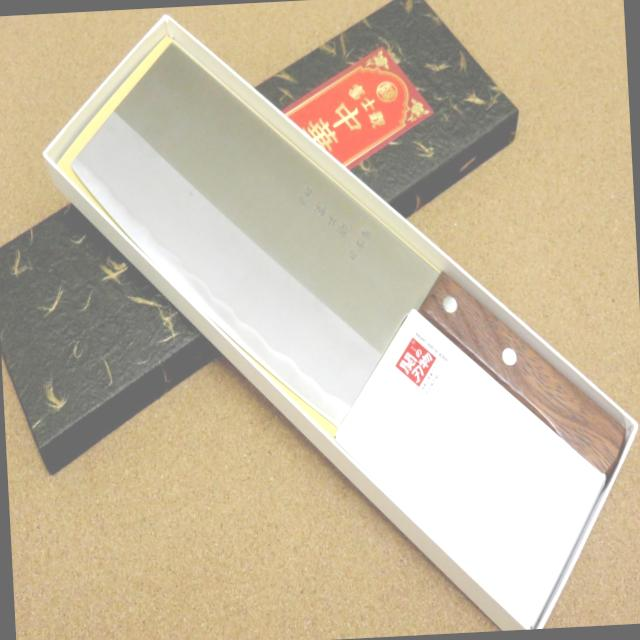cleaver: (67, 23, 628, 506)
